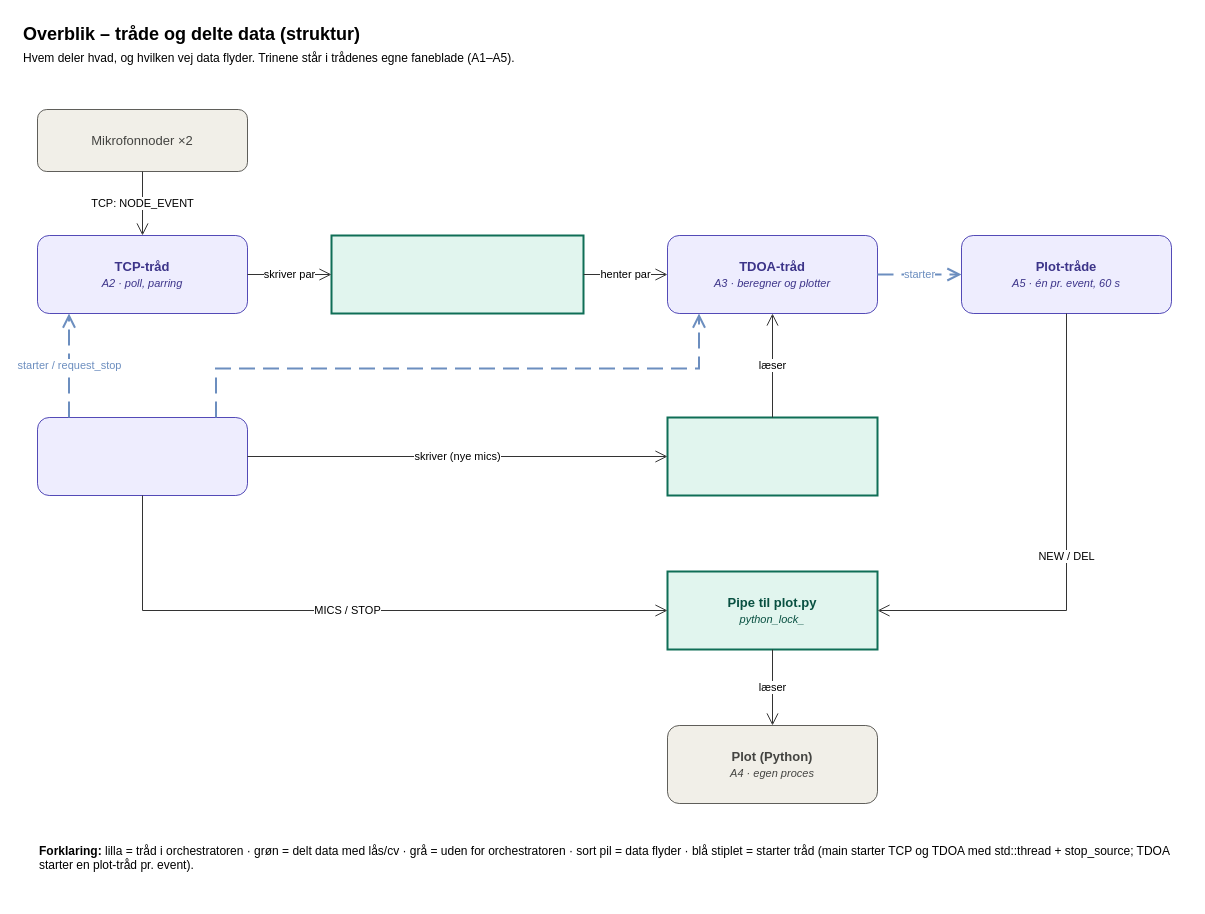
This 1205x914 diagram has some shape labels left out. Each missing label, with the box of its shape:
Kø af NODE_EVENT-par event lock · cv_tdoa: (330, 234, 584, 314)
Mic pos data lock: (666, 416, 878, 496)
TUI-tråd (main) A1 · menu, nedlukning: (36, 416, 248, 496)
